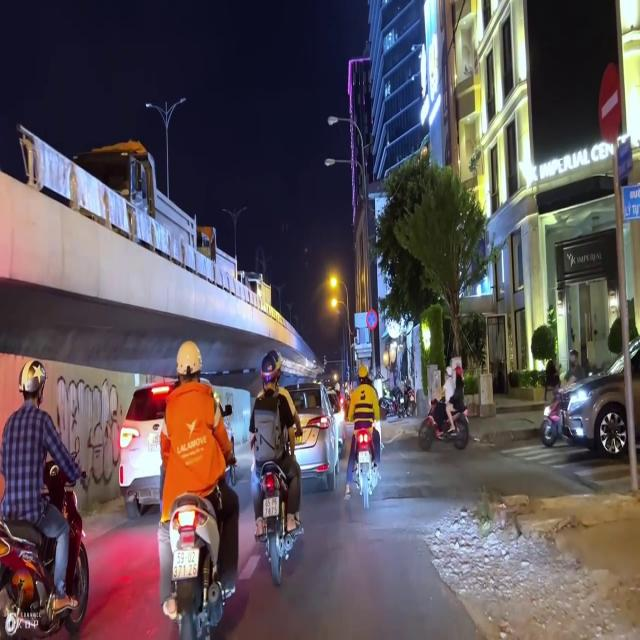bien_trang: (173, 548, 201, 579), (262, 494, 280, 520)
